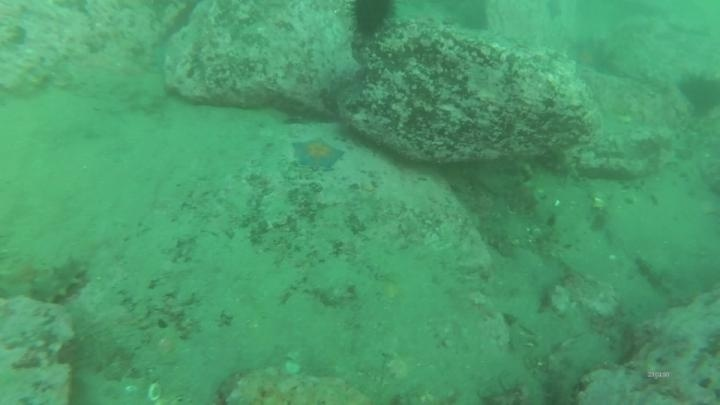echinus: (675, 69, 720, 117), (347, 1, 399, 39)
holothurian: (27, 252, 91, 306), (475, 198, 519, 259)
starfish: (289, 135, 347, 173)
